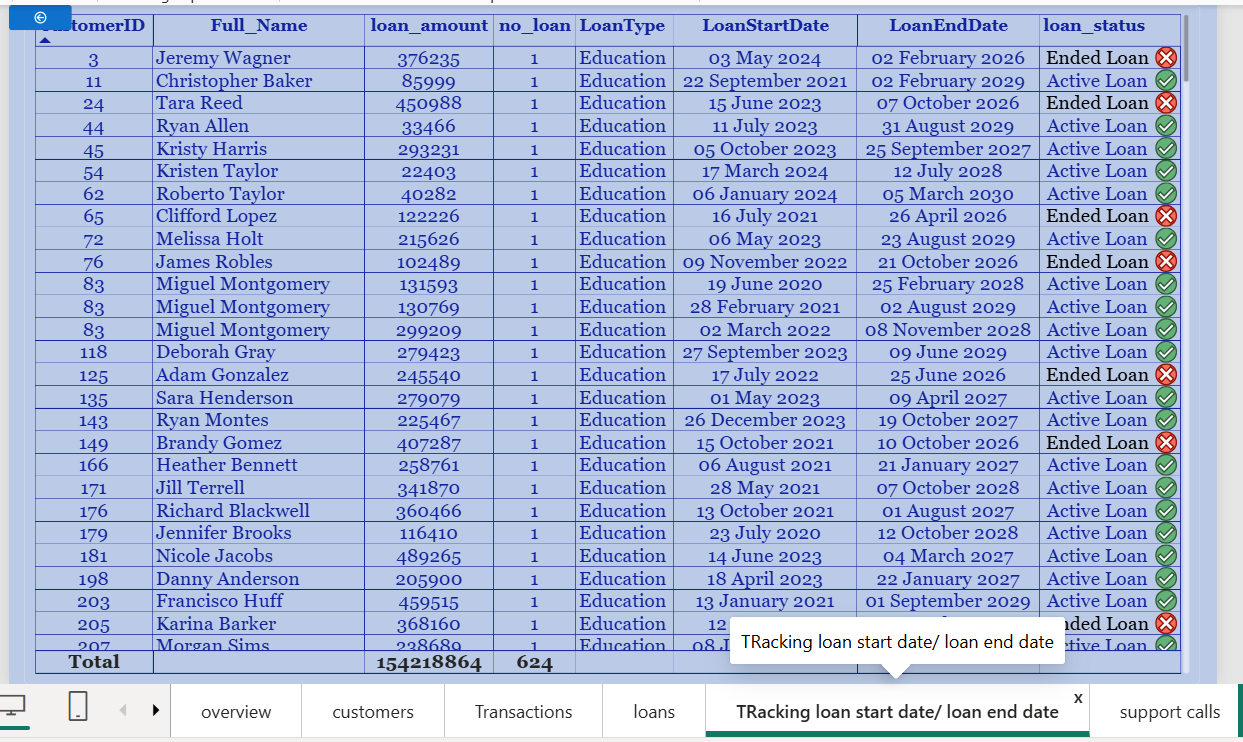

The dashboard page shown, as its layout file describes it:
{"tool":"powerbi","page":{"name":"TRacking loan start date/ loan end date","canvas":[1920,1080],"ordinal":4},"visuals":[{"type":"tableEx","fields":{"Values":["customers.CustomerID","customers.Full_Name","calculation_overiew.loan_amount","loan_calculation.no_loan","Loans.LoanType","Loans.LoanStartDate","Loans.LoanEndDate","Loans.loan_status"]},"box":[23.9,0,1870.6,1080.8],"z":0},{"type":"actionButton","box":[0,0,100,40],"z":1000}]}

Visuals, with their boxes on the page's 1920x1080 design canvas (x1, y1, x2, y2). These are canvas units, not pixel positions in the 1243x742 screenshot, which may show the page scaled, cropped or inside an application window:
tableEx - customers.CustomerID x customers.Full_Name: bbox=[24, 0, 1894, 1081]
actionButton: bbox=[0, 0, 100, 40]
